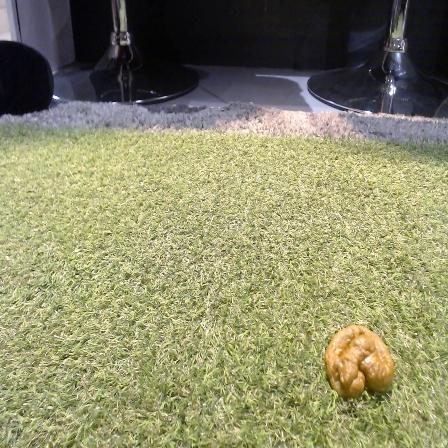dog-poop: (326, 324, 398, 400)
